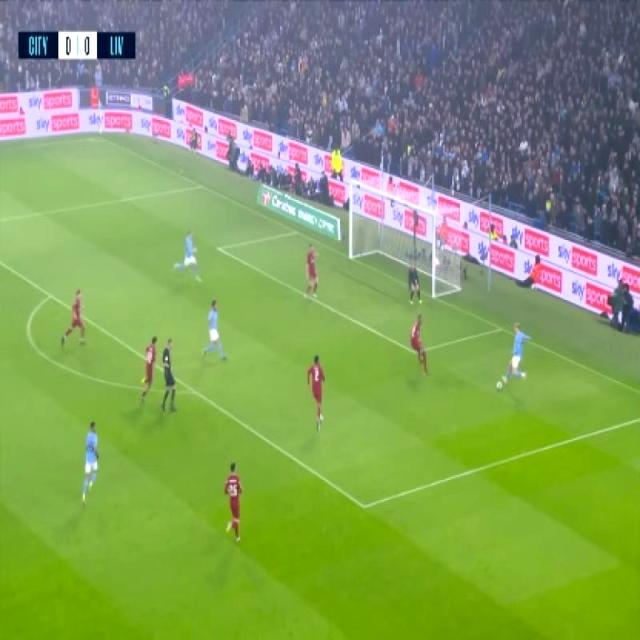bigarea_bottom_inner: (351, 490, 374, 520)
bigarea_top_outter: (192, 176, 208, 194)
bottom_arc_area_intersection: (183, 377, 202, 403)
corner: (89, 130, 108, 145)
smallarea_bottom_outter: (489, 315, 511, 340)
smallarea_top_inner: (208, 237, 228, 260)
smallarea_top_outter: (286, 222, 304, 242)
top_arc_area_intersection: (40, 285, 57, 305)
